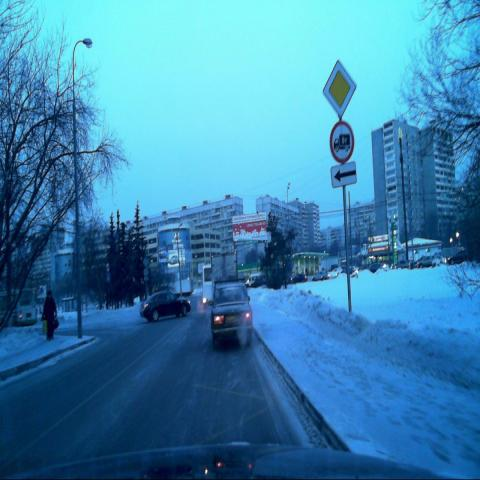3_4: (329, 122, 354, 165)
8_3_2: (331, 161, 358, 188)
